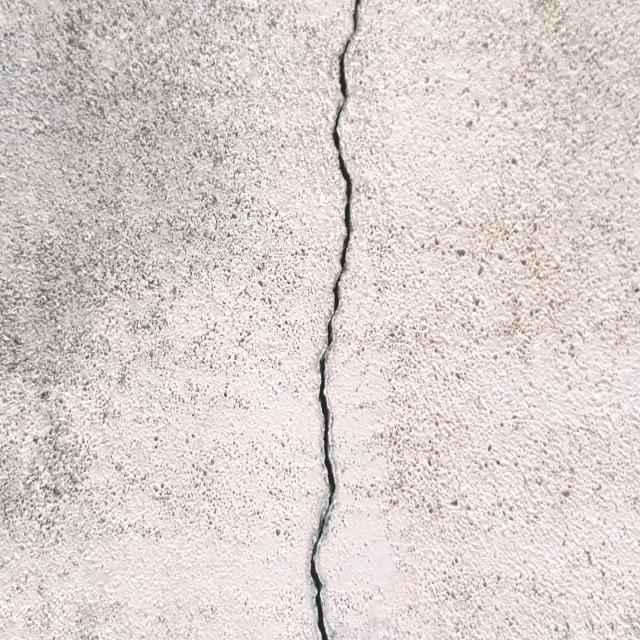SurfaceCrack: (264, 0, 401, 639)
